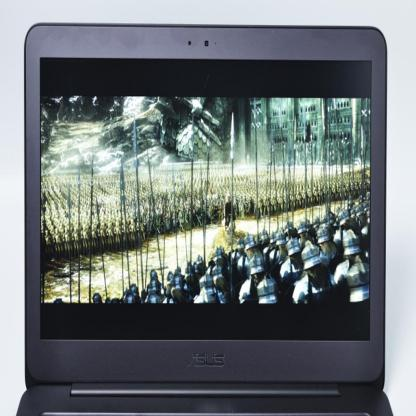board: (3, 25, 416, 411)
